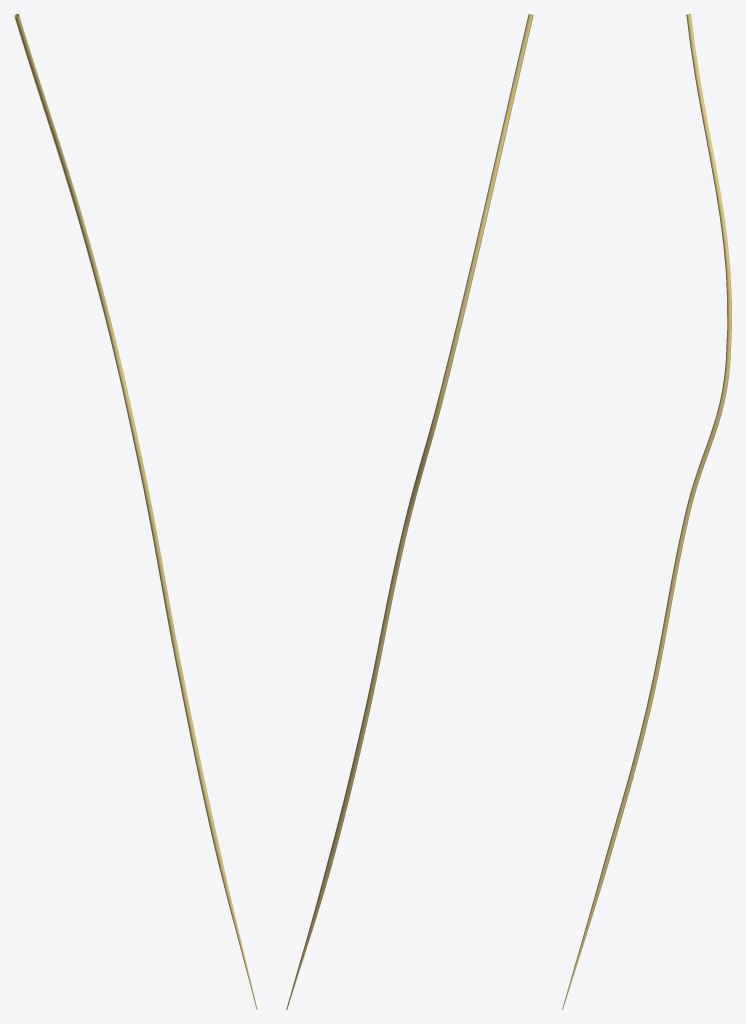
The picture shows the model from 3 angles, left to right: view 1: azimuth 30°, elevation 25°; view 2: azimuth 210°, elevation 25°; view 3: azimuth 270°, elevation 25°; orthographic projection. The views are drawn at different scales.
Parts seen in each view (by area): view 1: ZA_b6664b69690c8118; view 2: ZA_b6664b69690c8118; view 3: ZA_b6664b69690c8118.
Boxes of the visible parts, x1,y1,x2,y2 form: ZA_b6664b69690c8118: [14, 14, 257, 1009]; ZA_b6664b69690c8118: [286, 14, 533, 1009]; ZA_b6664b69690c8118: [562, 14, 731, 1009].
Bounding box in the file's own units: 0.0389 × 0.2097 × 0.0352.
